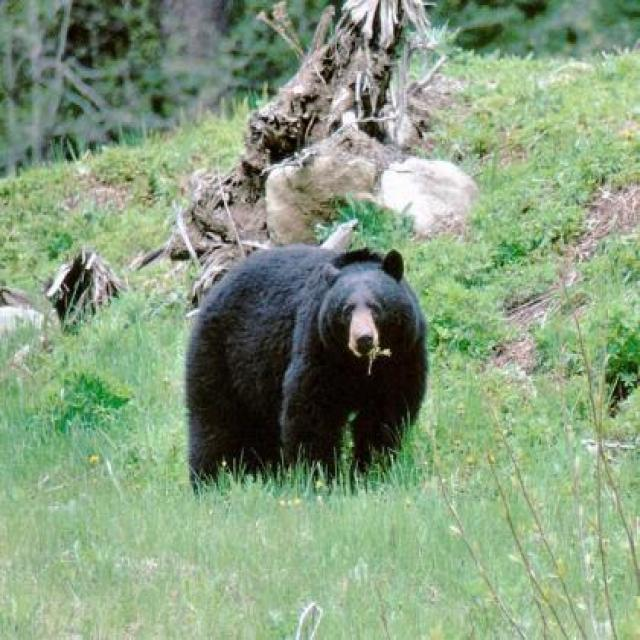Bear: (183, 223, 428, 493)
